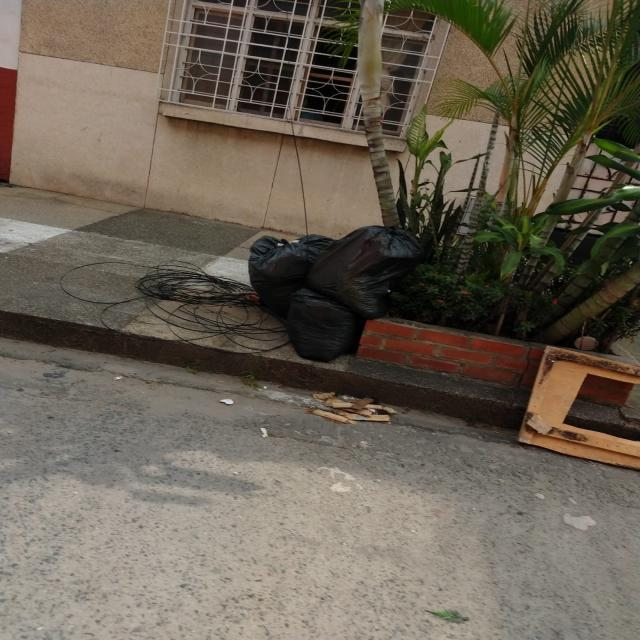Trashbag: (315, 227, 418, 306), (246, 225, 333, 301), (285, 286, 355, 367)
